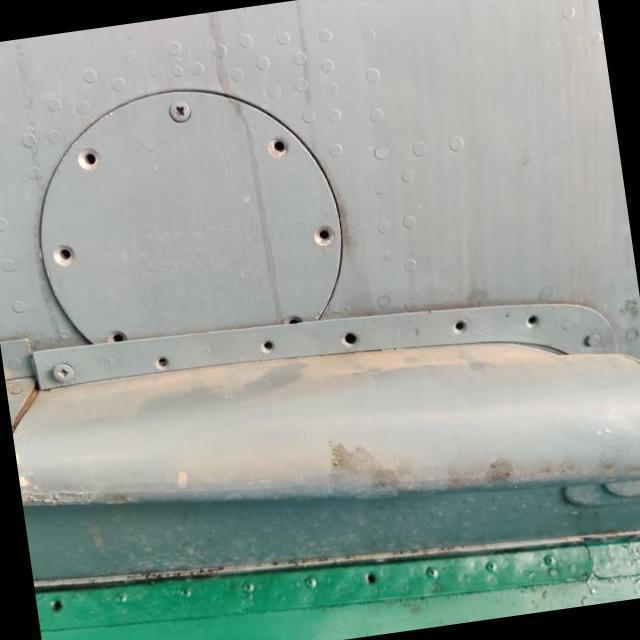Fastener Damage: (38, 228, 93, 284), (252, 123, 310, 176), (63, 135, 115, 188), (266, 294, 320, 344), (299, 211, 350, 263), (95, 311, 144, 363), (325, 314, 372, 360), (438, 302, 482, 347), (512, 298, 555, 342), (140, 341, 183, 381), (246, 326, 284, 364)
